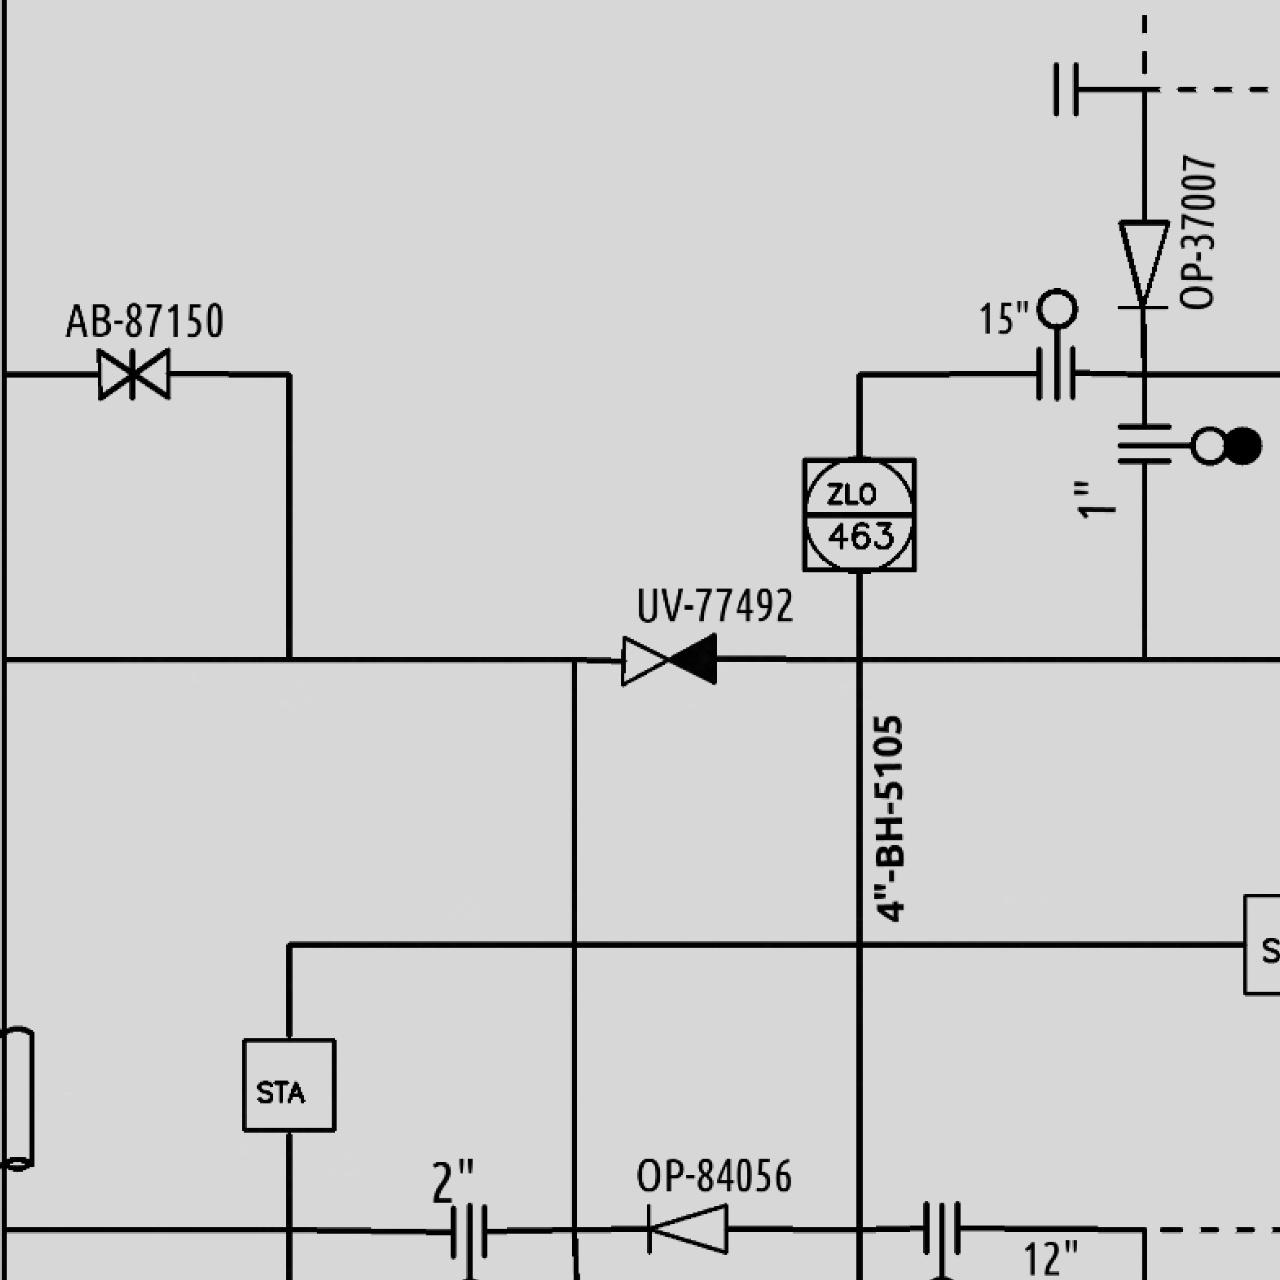Half closed valve: (615, 627, 719, 690)
